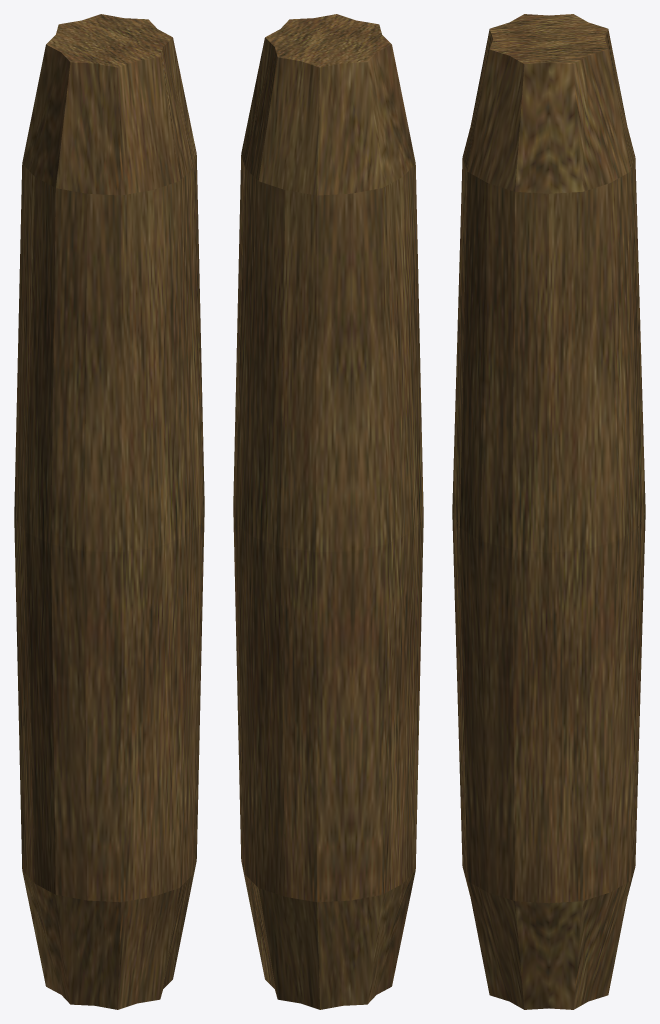
The model's file is bullet.obj.
3 renders of one model, left to right at view 1: azimuth 30°, elevation 25°; view 2: azimuth 150°, elevation 25°; view 3: azimuth 270°, elevation 25°, orthographic.
Size of the model in its own units: 0.3707 by 2 by 0.3707.
